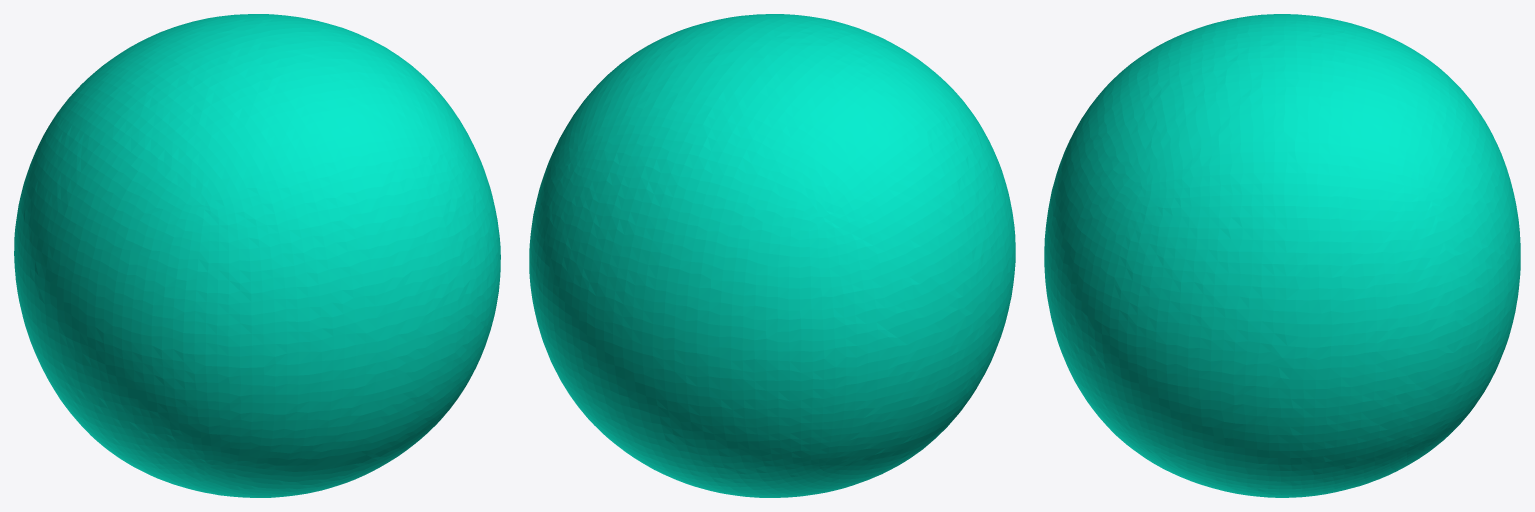
Rendered from Sea41.fbx.
3 renders of one model, left to right at view 1: azimuth 30°, elevation 25°; view 2: azimuth 150°, elevation 25°; view 3: azimuth 270°, elevation 25°, orthographic.
Visible parts, largest first — view 1: pCube1; view 2: pCube1; view 3: pCube1.
Boxes of the visible parts, bbox=[...] form: pCube1: bbox=[14, 14, 500, 497]; pCube1: bbox=[529, 14, 1015, 497]; pCube1: bbox=[1044, 14, 1520, 497].
Size of the model in its own units: 40.3 by 40.29 by 40.29.
